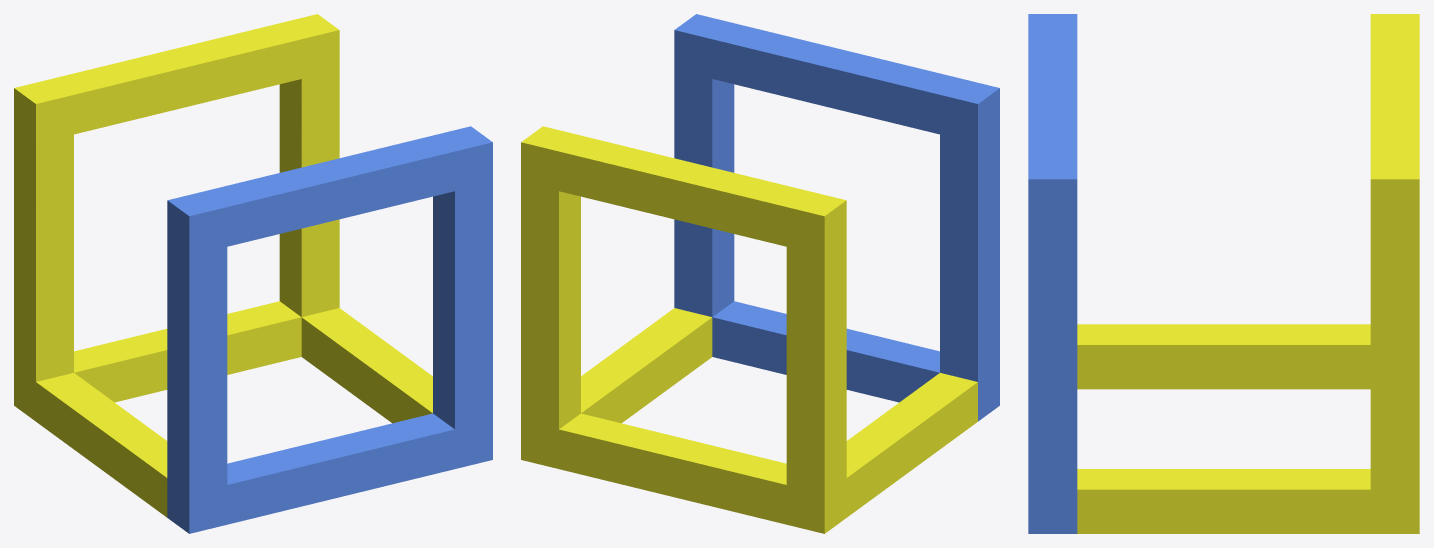
File: demo2.obj
The picture shows the model from 3 angles, left to right: view 1: azimuth 30°, elevation 25°; view 2: azimuth 150°, elevation 25°; view 3: azimuth 270°, elevation 25°; orthographic projection. The views are drawn at different scales.
Bounding box in the file's own units: 8 × 8 × 8.
Materials: 1 (1 with a texture image).
